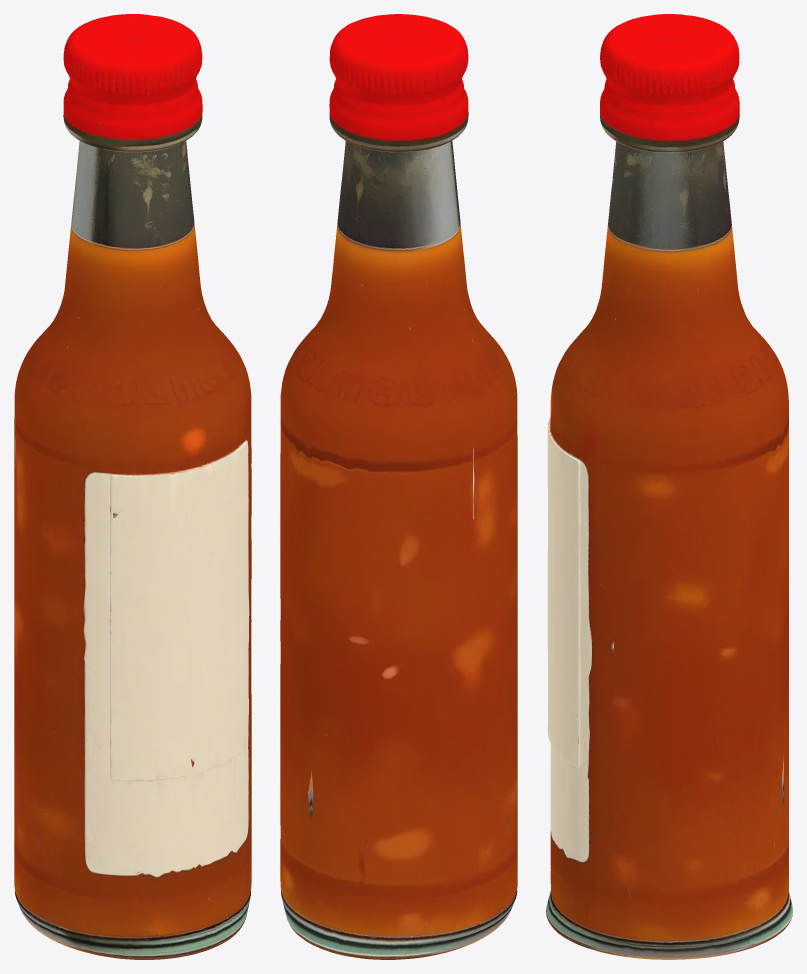
The model's file is kitchen-hot-sauce-05.glb.
3 renders of one model, left to right at view 1: azimuth 30°, elevation 25°; view 2: azimuth 150°, elevation 25°; view 3: azimuth 270°, elevation 25°, orthographic.
Size of the model in its own units: 0.4679 by 1.9 by 0.4849.
Materials: 1 (1 with a texture image).
